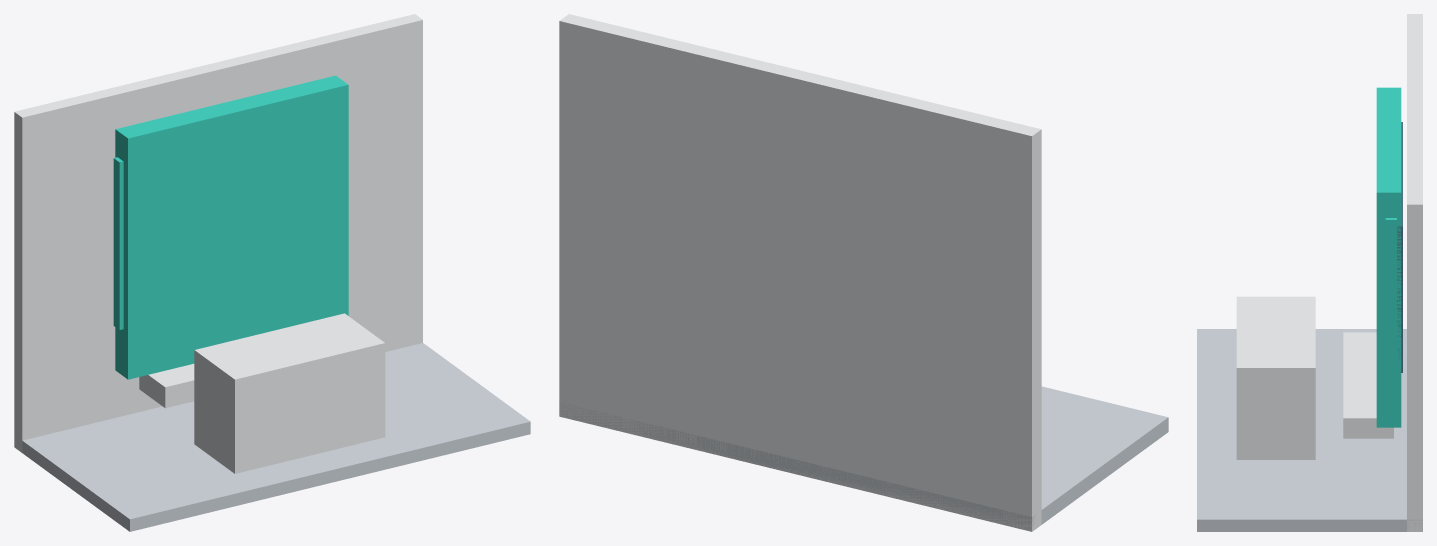
3 views of the same model, side by side, from view 1: azimuth 30°, elevation 25°; view 2: azimuth 150°, elevation 25°; view 3: azimuth 270°, elevation 25° (orthographic). The views are drawn at different scales.
Visible parts, largest first — view 1: Exhibition Booth Concept; view 2: Exhibition Booth Concept; view 3: Exhibition Booth Concept.
Part boxes in pixels (x1,y1,x2,y2): Exhibition Booth Concept: (14,14,530,531); Exhibition Booth Concept: (559,14,1168,531); Exhibition Booth Concept: (1197,14,1422,531).
Bounding box in the file's own units: 4 × 3.2 × 2.
